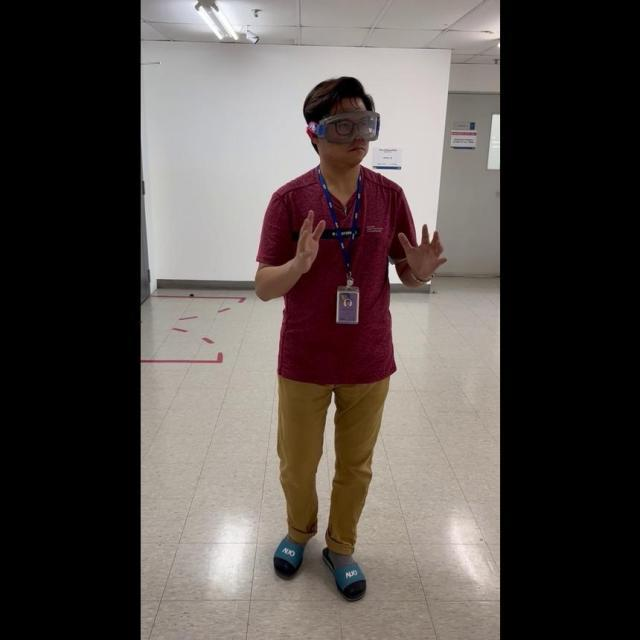bare_hand: (397, 217, 447, 281), (288, 206, 324, 278)
